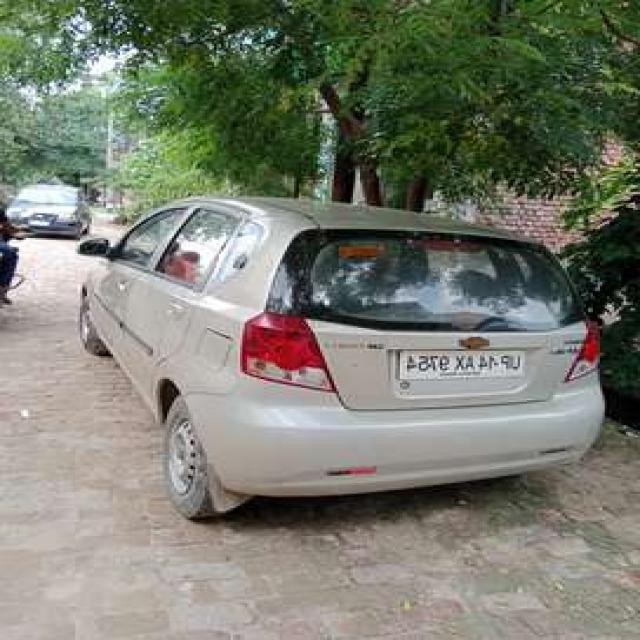license_plate: (396, 349, 528, 382)
